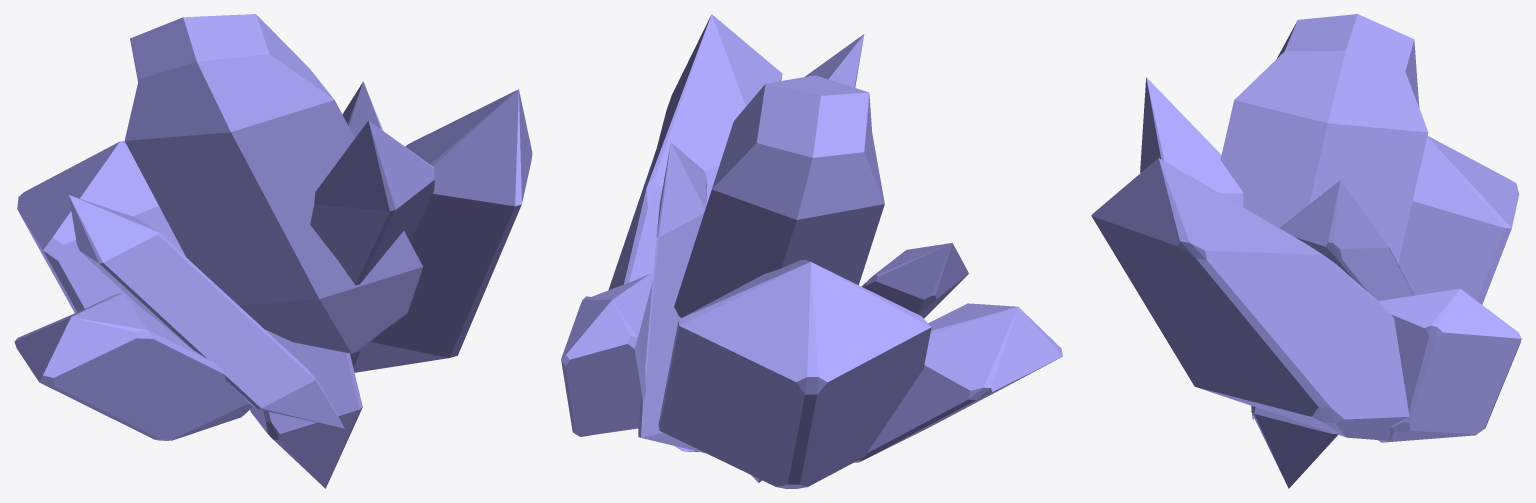
The model's file is GripCrystal 4.fbx.
The picture shows the model from 3 angles, left to right: view 1: azimuth 30°, elevation 25°; view 2: azimuth 150°, elevation 25°; view 3: azimuth 270°, elevation 25°; orthographic projection. The views are drawn at different scales.
Parts seen in each view (by area): view 1: GripCrystal 4; view 2: GripCrystal 4; view 3: GripCrystal 4.
Part boxes in pixels (left/top/right/bottom): GripCrystal 4: left=14, top=14, right=532, bottom=488; GripCrystal 4: left=561, top=14, right=1062, bottom=488; GripCrystal 4: left=1091, top=14, right=1521, bottom=488.
Size of the model in its own units: 7.96 by 8.85 by 8.74.
